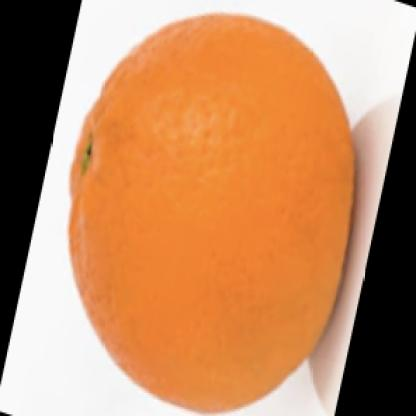fresh: (66, 12, 356, 416)
